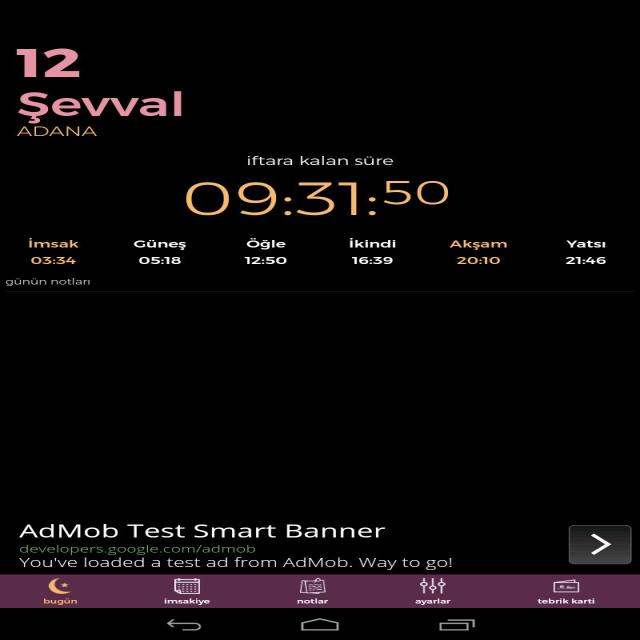button: (19, 573, 104, 609), (528, 574, 608, 608), (150, 574, 228, 608), (403, 574, 468, 610), (282, 575, 344, 607)
iframe: (3, 515, 638, 572)
text: (6, 230, 640, 289), (176, 146, 470, 218), (18, 42, 190, 142)
